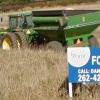Tractor: (3, 4, 98, 51)
